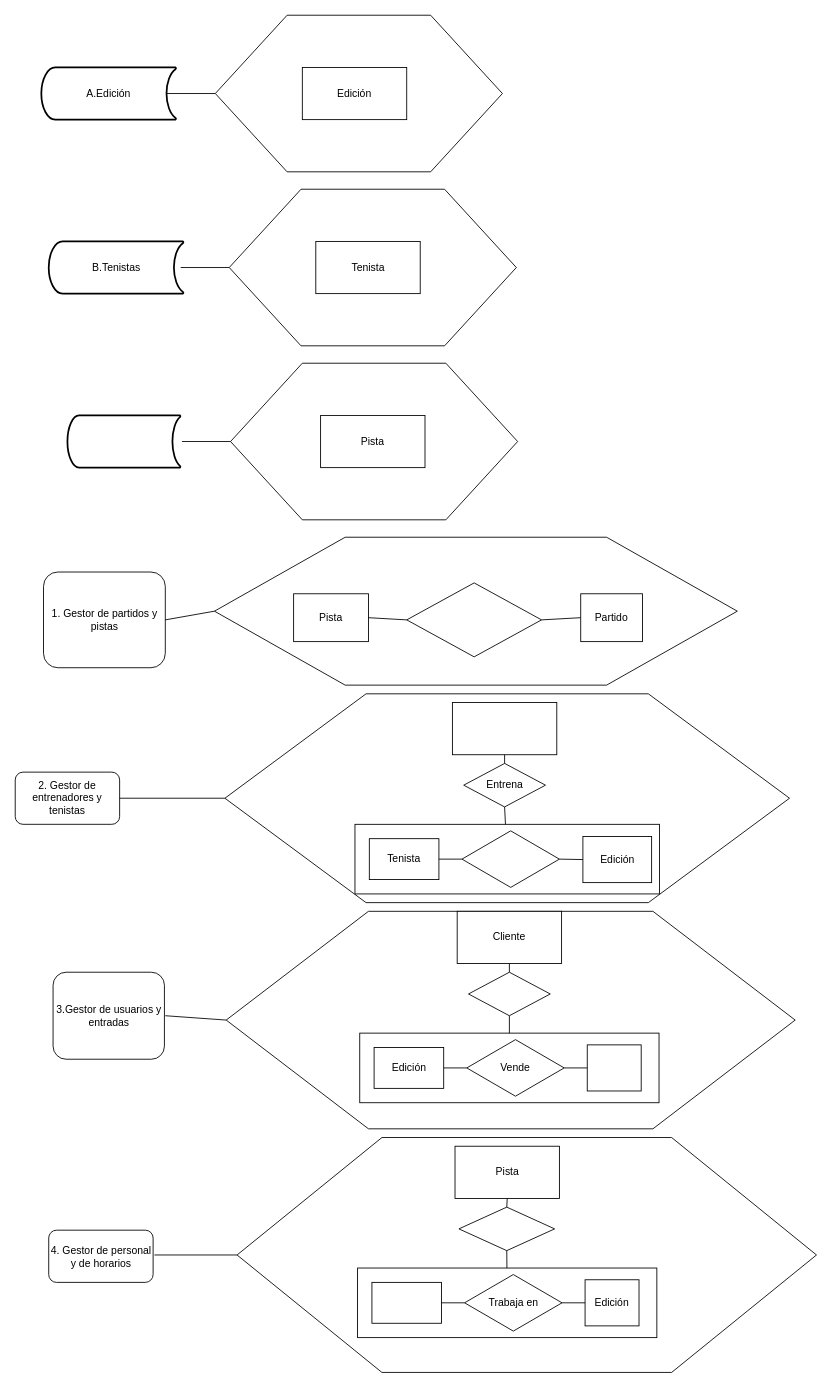
The diagram is 832 pixels wide and 1388 high, and some of its shapes have lost their labels. Each missing label, with the box of its shape:
Asignado: (458, 1206, 555, 1251)
C. Pistas: (66, 414, 181, 468)
Compra: (468, 971, 550, 1016)
Entrada: (586, 1044, 641, 1091)
Entrenador: (452, 702, 557, 755)
Participa: (461, 830, 559, 887)
Se juega en: (406, 582, 542, 657)
Trabajador: (371, 1282, 442, 1323)
